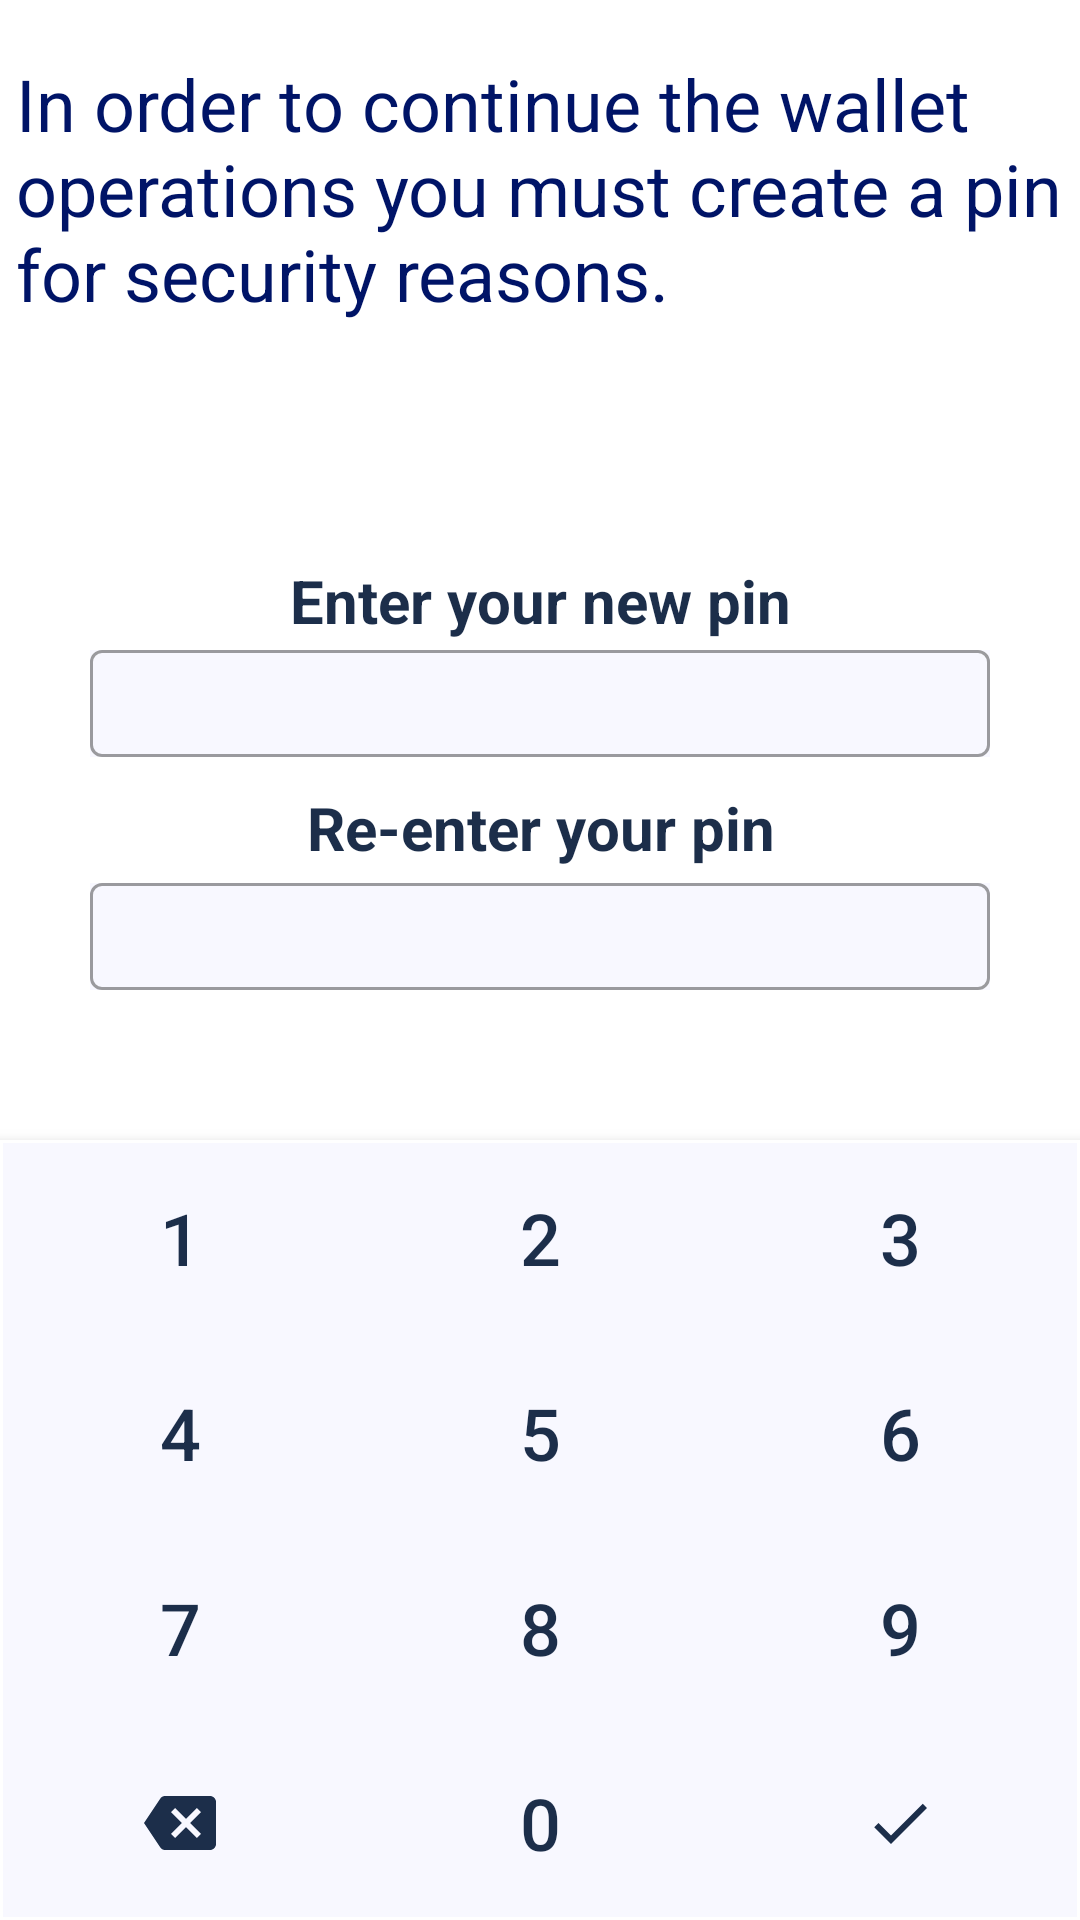

Icon click points for this 1080px x 1920px phone screenshot, format [x,y]:
backspace: [180,1823]
check: [900,1824]
